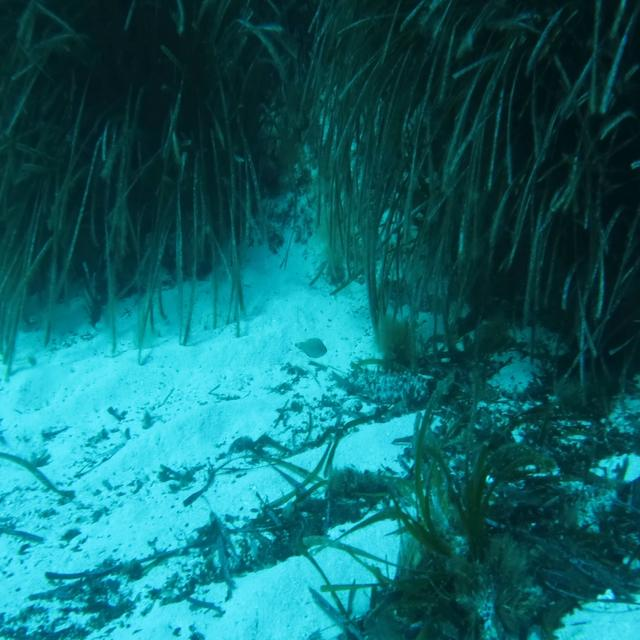SA: (292, 329, 336, 363)
vegetation: (0, 0, 640, 329), (387, 327, 640, 640)
